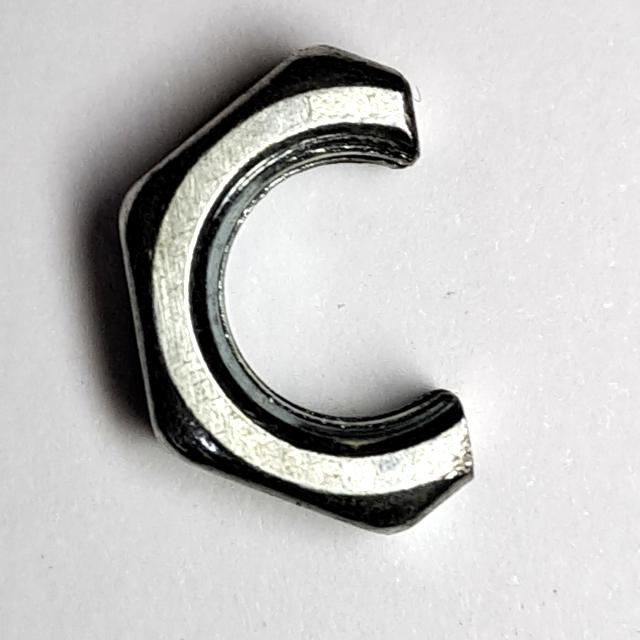Fracture: (111, 28, 505, 552)
